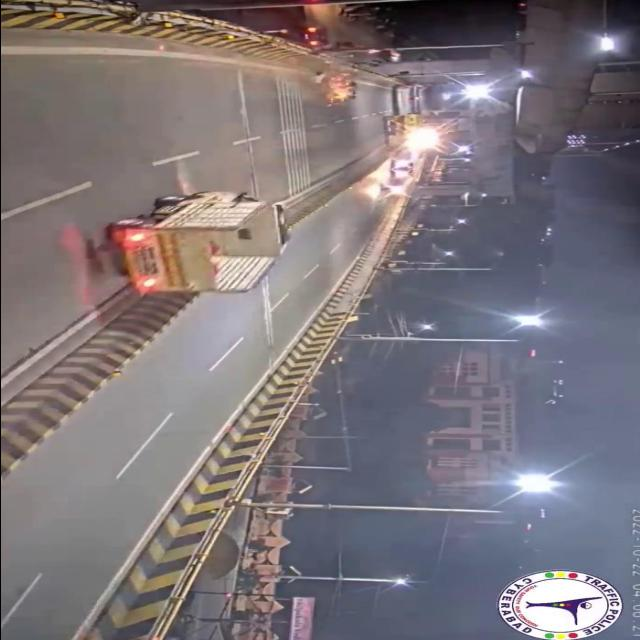accident: (309, 60, 360, 108)
